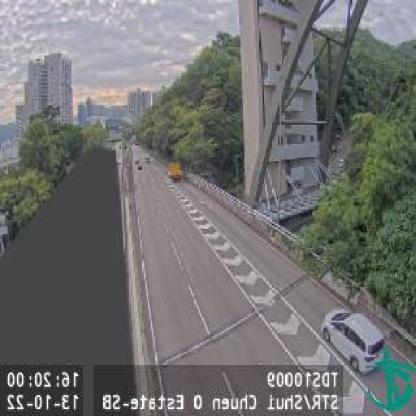Car: (320, 305, 388, 377)
